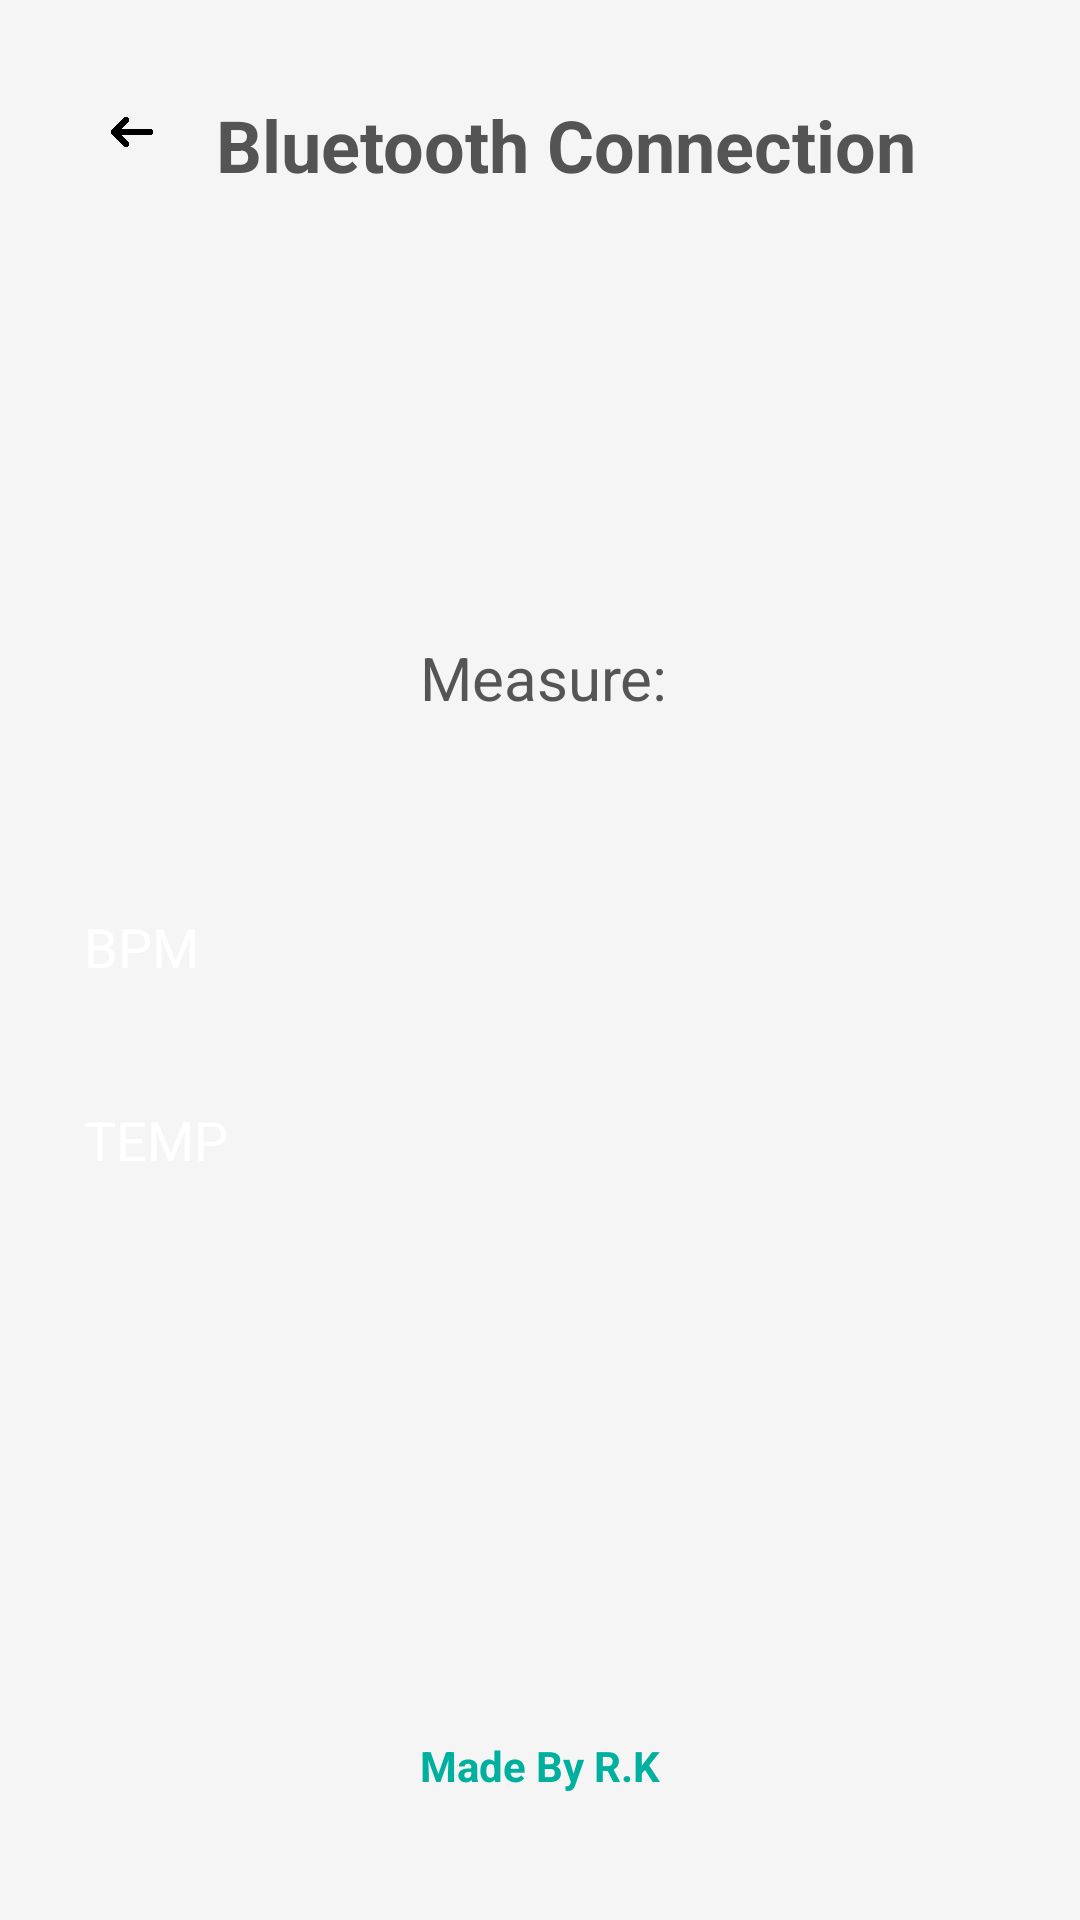

Icons on this 1080*1920 Android screen, each with the point to tap as [x,y]:
Back to Previous Screen: [132,132]
